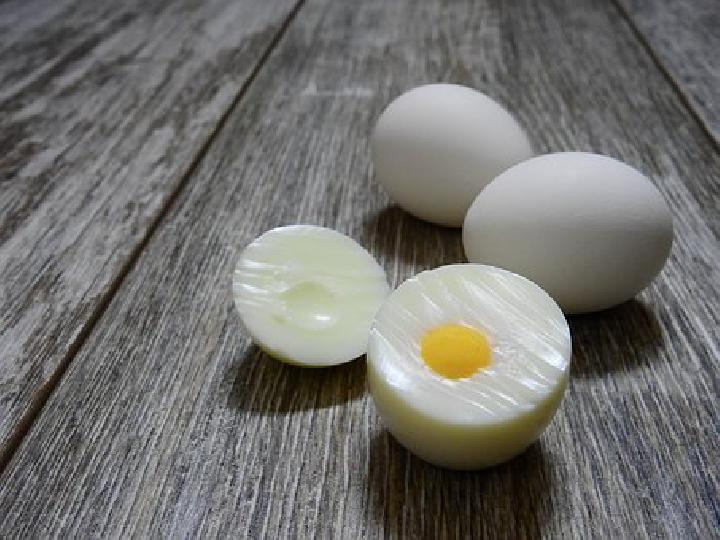Telur: (460, 134, 654, 301), (335, 77, 536, 226), (377, 282, 563, 443)
